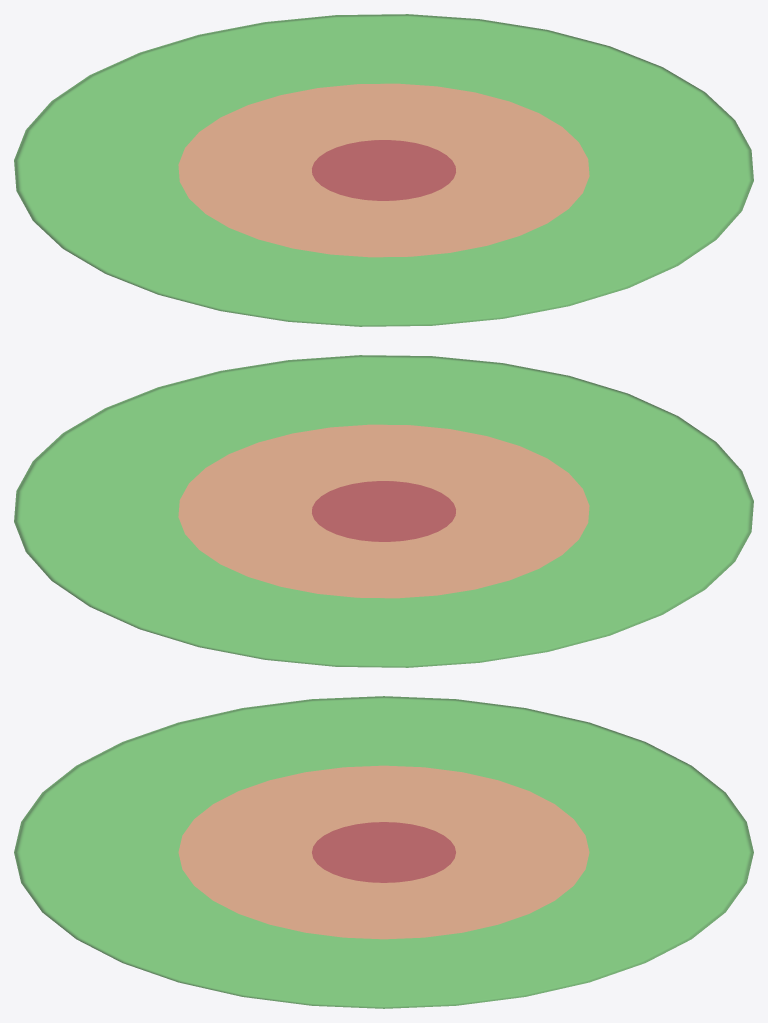
File: zone1s.fbx
The picture shows the model from 3 angles, top to bottom: view 1: azimuth 30°, elevation 25°; view 2: azimuth 150°, elevation 25°; view 3: azimuth 270°, elevation 25°; orthographic projection.
Visible parts, largest first — view 1: Sphere; view 2: Sphere; view 3: Sphere.
Part boxes in pixels (x1,y1,x2,y2): Sphere: (14, 14, 753, 326); Sphere: (14, 355, 753, 667); Sphere: (14, 696, 753, 1008).
Bounding box in the file's own units: 200 × 0.02 × 200.
